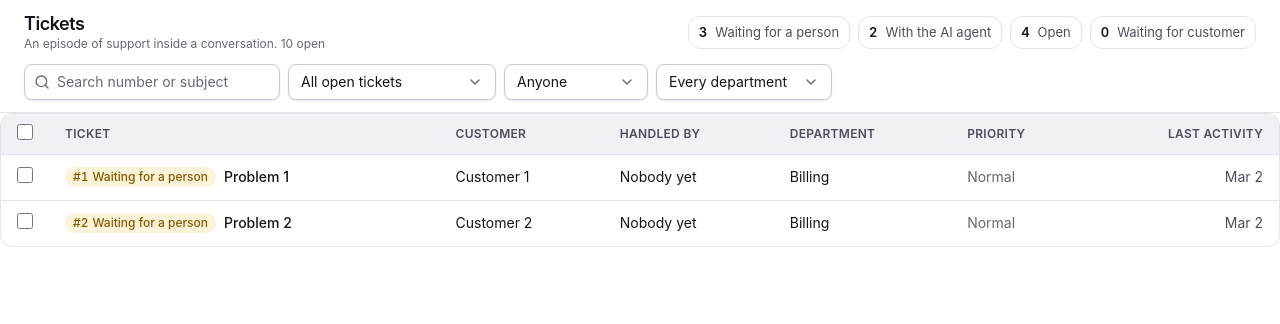
Test: TicketsPage › select-all picks every row; seats without tickets:close see no checkboxes
Click the checkbox named "Select all tickets on this page".
click(25, 132)  # box [17,124,33,140]
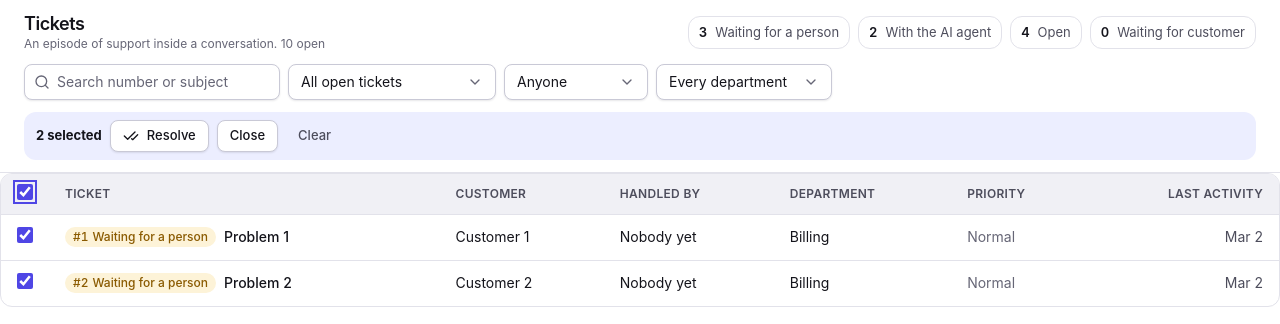
Check: the text "2 selected" is shown, box [36,126,102,145]
